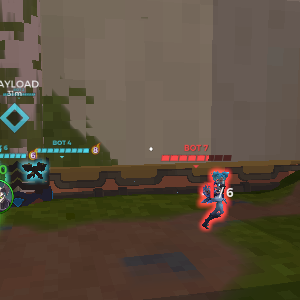model: (193, 167, 234, 234)
